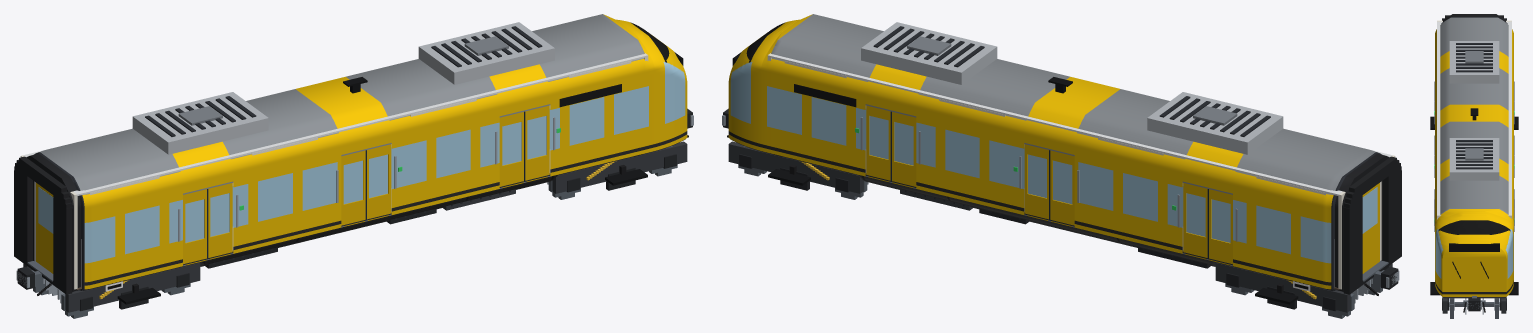
Rendered from ginza1000_front.obj.
3 renders of one model, left to right at view 1: azimuth 30°, elevation 25°; view 2: azimuth 150°, elevation 25°; view 3: azimuth 270°, elevation 25°, orthographic. The views are drawn at different scales.
Parts seen in each view (by area): view 1: SHELL, SHELL_roof, SHELL_diaphragm, BOGEY_FRONT, BOGEY_REAR, SHELL_ceiling, EXTERNAL_DOOR_15_CG_DR3_TOGGLE_TL_-0.59_X, FRAME, EXTERNAL_DOOR_9_CG_DR2_TOGGLE_TL_-0.59_X, EXTERNAL_DOOR_3_CG_DR1_TOGGLE_TL_-0.59_X, EXTERNAL_DOOR_4_CG_DR1_TOGGLE_TL_0.59_X, EXTERNAL_DOOR_10_CG_DR2_TOGGLE_TL_0.59_X (+7 smaller); view 2: SHELL, SHELL_roof, SHELL_diaphragm, BOGEY_FRONT, BOGEY_REAR, SHELL_ceiling, EXTERNAL_DOOR_18_CG_DL3_TOGGLE_TL_-0.59_X, FRAME, EXTERNAL_DOOR_12_CG_DL2_TOGGLE_TL_-0.59_X, EXTERNAL_DOOR_6_CG_DL1_TOGGLE_TL_-0.59_X, EXTERNAL_DOOR_7_CG_DL1_TOGGLE_TL_0.59_X, EXTERNAL_DOOR_13_CG_DL2_TOGGLE_TL_0.59_X (+7 smaller); view 3: SHELL, SHELL_roof, SHELL_ceiling, BOGEY_FRONT, SHELL_destbox, BOGEY_FRONT_WHEEL_2, FRAME, SHELL_handle, BOGEY_REAR.
Part boxes in pixels (x1,y1,x2,y2): SHELL: [26, 14, 687, 291]; SHELL_roof: [132, 22, 554, 154]; SHELL_diaphragm: [14, 156, 72, 294]; BOGEY_FRONT: [552, 141, 687, 193]; BOGEY_REAR: [23, 262, 200, 312]; SHELL_ceiling: [23, 18, 644, 195]; EXTERNAL_DOOR_15_CG_DR3_TOGGLE_TL_-0.59_X: [499, 111, 525, 186]; FRAME: [16, 108, 693, 295]; EXTERNAL_DOOR_9_CG_DR2_TOGGLE_TL_-0.59_X: [341, 150, 366, 225]; EXTERNAL_DOOR_3_CG_DR1_TOGGLE_TL_-0.59_X: [183, 189, 208, 264]; EXTERNAL_DOOR_4_CG_DR1_TOGGLE_TL_0.59_X: [208, 183, 232, 257]; EXTERNAL_DOOR_10_CG_DR2_TOGGLE_TL_0.59_X: [367, 144, 391, 219]; SHELL: [728, 14, 1389, 291]; SHELL_roof: [861, 22, 1283, 154]; SHELL_diaphragm: [1343, 156, 1401, 294]; BOGEY_FRONT: [728, 141, 863, 193]; BOGEY_REAR: [1215, 262, 1392, 312]; SHELL_ceiling: [771, 18, 1392, 195]; EXTERNAL_DOOR_18_CG_DL3_TOGGLE_TL_-0.59_X: [890, 111, 916, 186]; FRAME: [722, 108, 1399, 295]; EXTERNAL_DOOR_12_CG_DL2_TOGGLE_TL_-0.59_X: [1049, 150, 1074, 225]; EXTERNAL_DOOR_6_CG_DL1_TOGGLE_TL_-0.59_X: [1207, 189, 1232, 264]; EXTERNAL_DOOR_7_CG_DL1_TOGGLE_TL_0.59_X: [1183, 183, 1207, 257]; EXTERNAL_DOOR_13_CG_DL2_TOGGLE_TL_0.59_X: [1024, 144, 1048, 219]; SHELL: [1435, 14, 1513, 298]; SHELL_roof: [1449, 41, 1499, 180]; SHELL_ceiling: [1437, 21, 1511, 214]; BOGEY_FRONT: [1430, 282, 1518, 313]; SHELL_destbox: [1449, 243, 1499, 251]; BOGEY_FRONT_WHEEL_2: [1449, 298, 1499, 318]; FRAME: [1463, 296, 1485, 312]; SHELL_handle: [1434, 81, 1514, 231]; BOGEY_REAR: [1430, 116, 1518, 129].
Size of the model in its own units: 17.24 by 3.86 by 2.84.
Materials: 1 (1 with a texture image).
